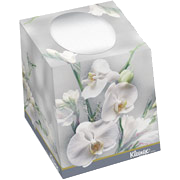grozi_32: (20, 2, 160, 178)
